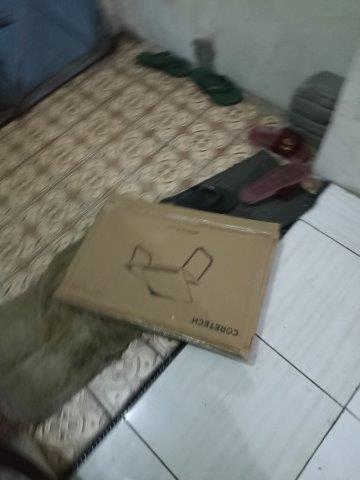kardus: (59, 201, 279, 358)
